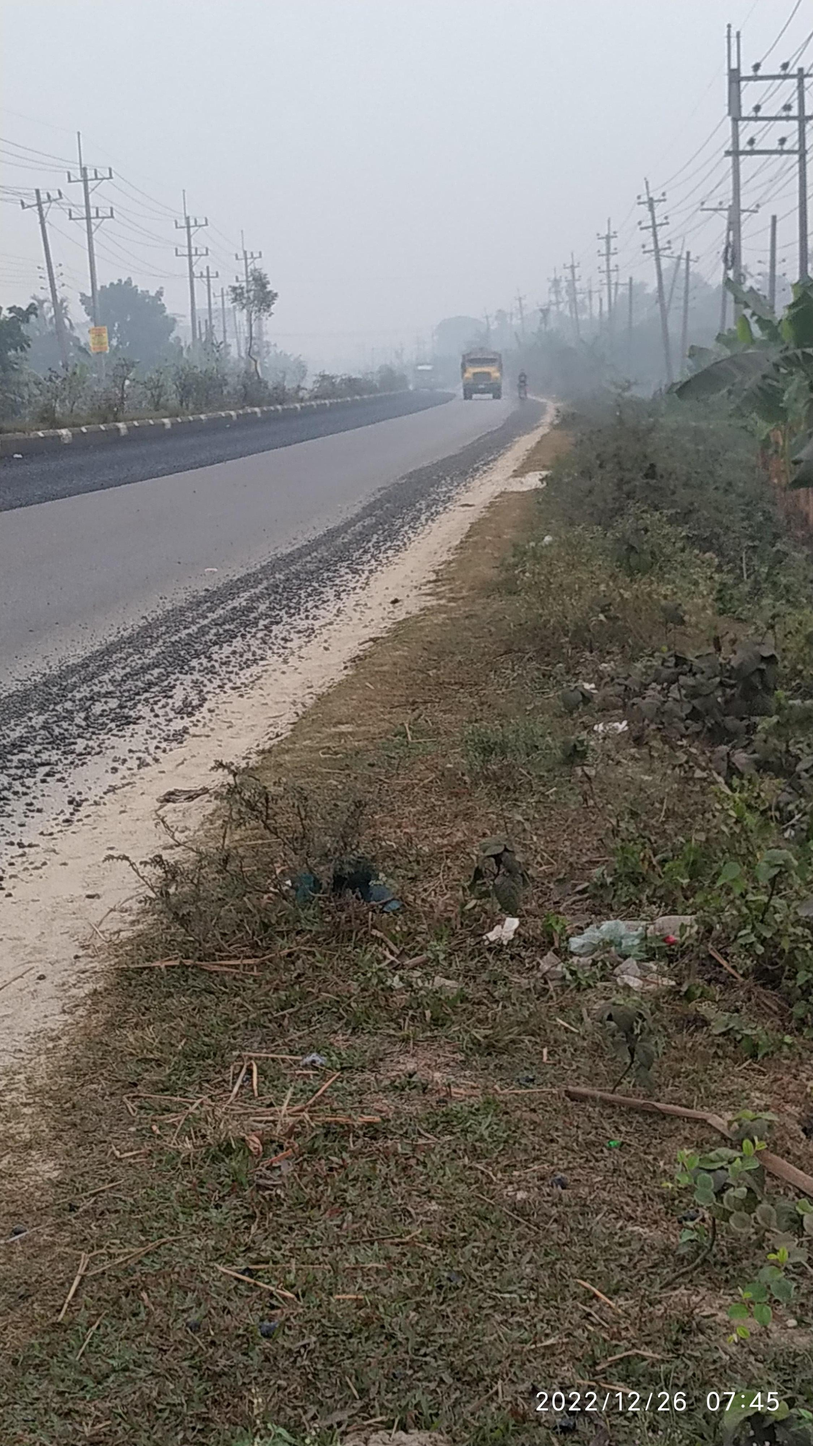Truck: (450, 343, 509, 408)
